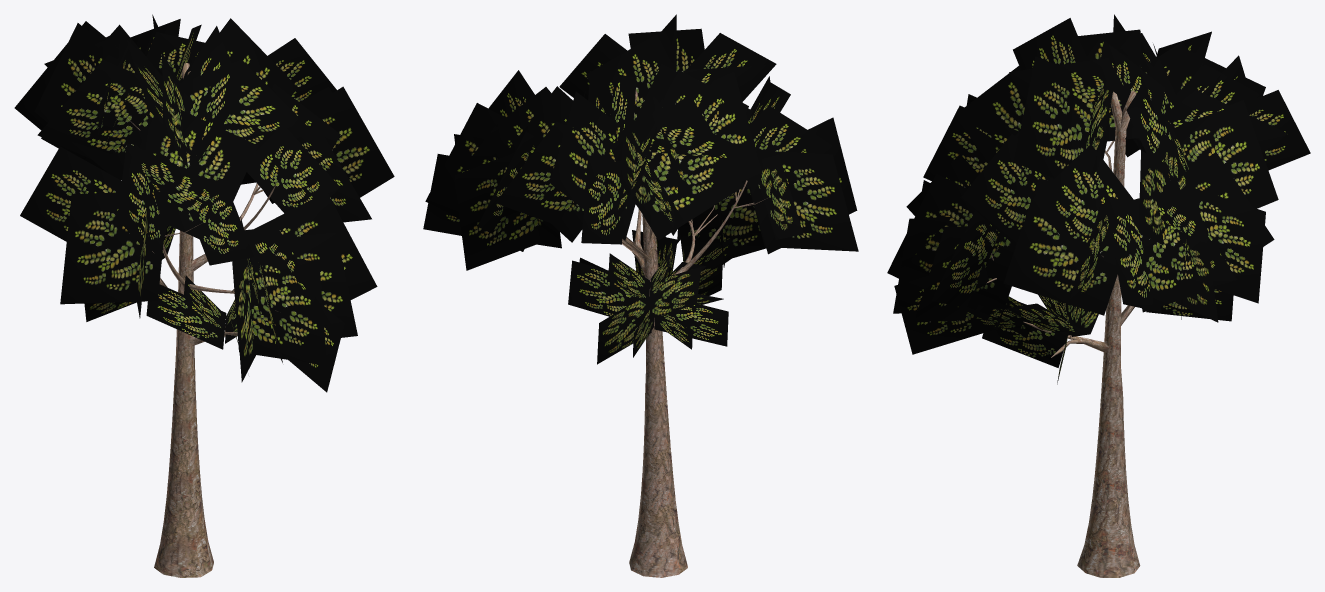
Rendered from Tree 2.fbx.
3 renders of one model, left to right at view 1: azimuth 30°, elevation 25°; view 2: azimuth 150°, elevation 25°; view 3: azimuth 270°, elevation 25°, orthographic.
Visible parts, largest first — view 1: img_2500_1, bark02_0; view 2: img_2500_1, bark02_0; view 3: img_2500_1, bark02_0.
Part boxes in pixels (x1=…): img_2500_1: x1=14, y1=14, x2=394, y2=392; bark02_0: x1=123, y1=63, x2=277, y2=577; img_2500_1: x1=423, y1=14, x2=858, y2=364; bark02_0: x1=622, y1=90, x2=767, y2=577; img_2500_1: x1=887, y1=14, x2=1310, y2=384; bark02_0: x1=987, y1=90, x2=1140, y2=577.
Bounding box in the file's own units: 382 × 547 × 398.
